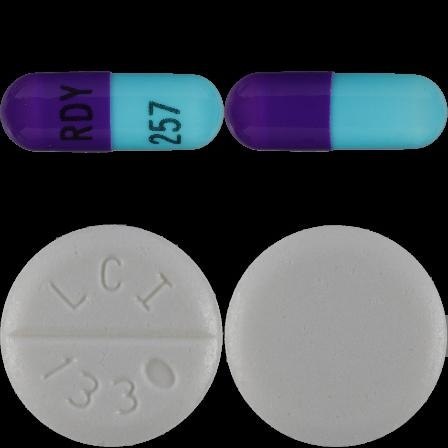63739-005: (0, 0, 224, 224)
